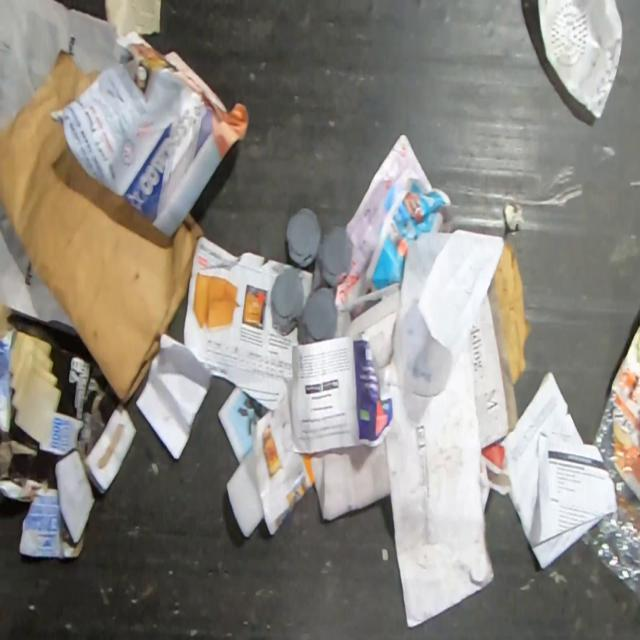cardboard: (0, 48, 207, 407), (0, 319, 139, 561), (469, 278, 520, 452), (309, 435, 391, 521), (335, 272, 401, 368), (493, 242, 533, 387)
rigid_plastic: (284, 206, 352, 294), (270, 266, 337, 346)
soft_plastic: (579, 324, 640, 601), (535, 0, 624, 122)
